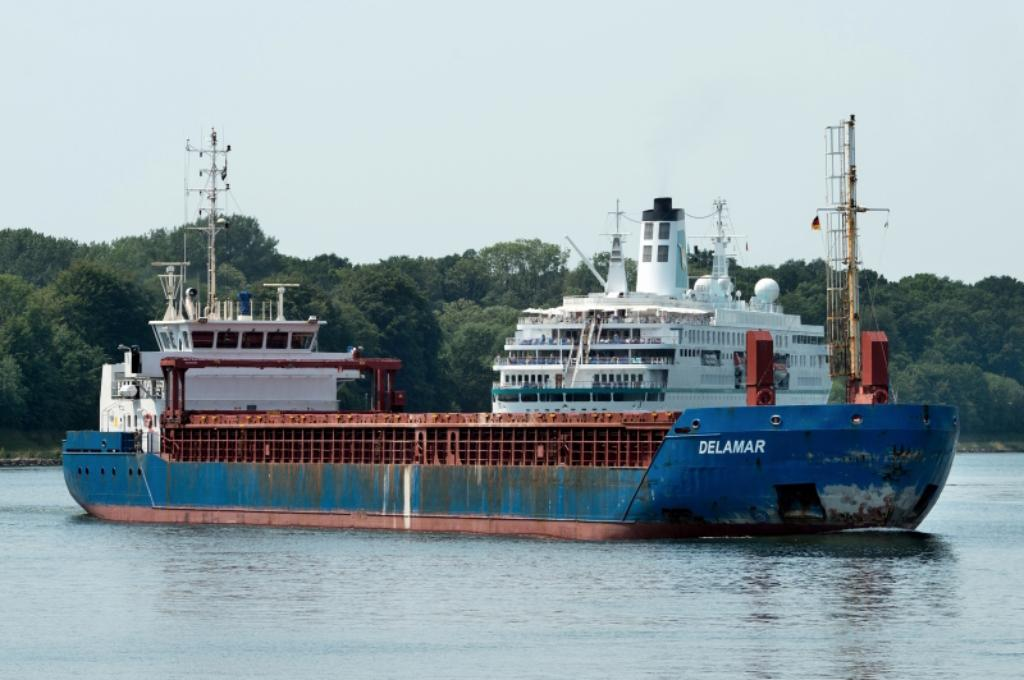PassengerShip: (474, 190, 848, 426)
